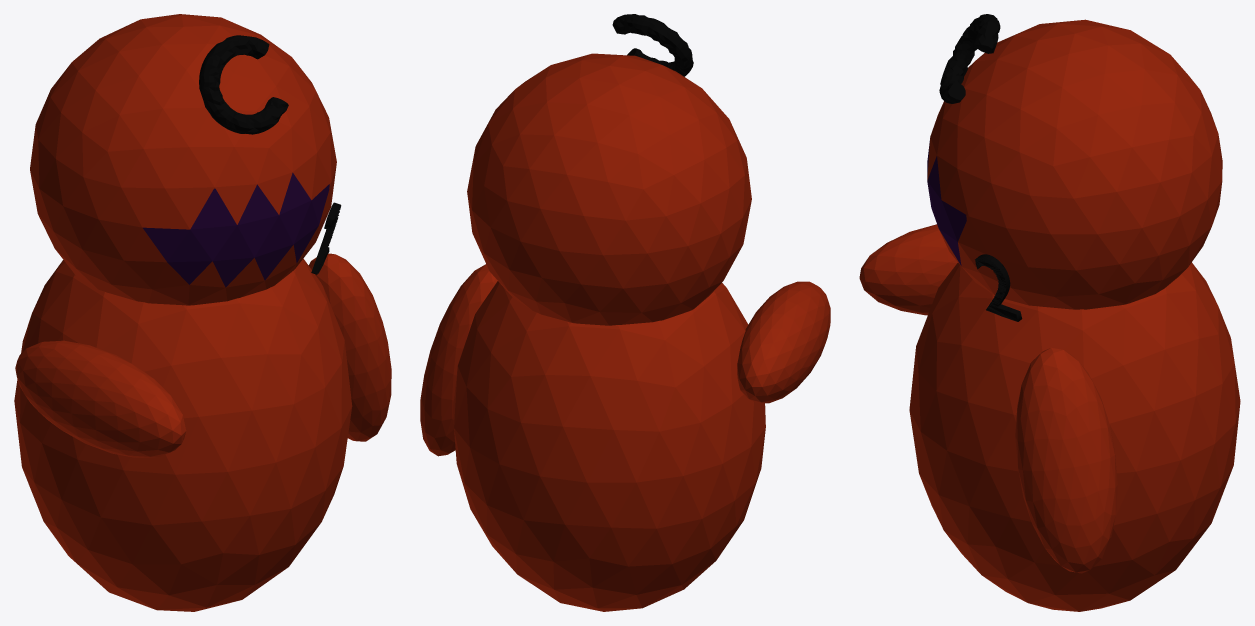
Rendered from Enemy1.fbx.
The picture shows the model from 3 angles, left to right: view 1: azimuth 30°, elevation 25°; view 2: azimuth 150°, elevation 25°; view 3: azimuth 270°, elevation 25°; orthographic projection. The views are drawn at different scales.
Visible parts, largest first — view 1: Icosphere.001, Icosphere, Icosphere.002, Icosphere.003, Torus, Text; view 2: Icosphere.001, Icosphere, Icosphere.002, Icosphere.003, Torus; view 3: Icosphere.001, Icosphere, Icosphere.003, Icosphere.002, Torus, Text.
Part boxes in pixels (x1,y1,x2,y2): Icosphere.001: (14, 258, 352, 611); Icosphere: (30, 14, 336, 305); Icosphere.002: (15, 340, 186, 457); Icosphere.003: (308, 253, 391, 441); Torus: (199, 35, 288, 134); Text: (311, 202, 341, 274); Icosphere.001: (453, 281, 765, 611); Icosphere: (467, 53, 751, 325); Icosphere.002: (737, 281, 830, 403); Icosphere.003: (420, 264, 497, 456); Torus: (612, 14, 693, 76); Icosphere.001: (909, 262, 1240, 611); Icosphere: (927, 19, 1222, 309); Icosphere.003: (1015, 348, 1117, 573); Icosphere.002: (859, 224, 957, 315); Torus: (939, 14, 1000, 103); Text: (975, 254, 1022, 321).
Size of the model in its own units: 257 by 390 by 230.
